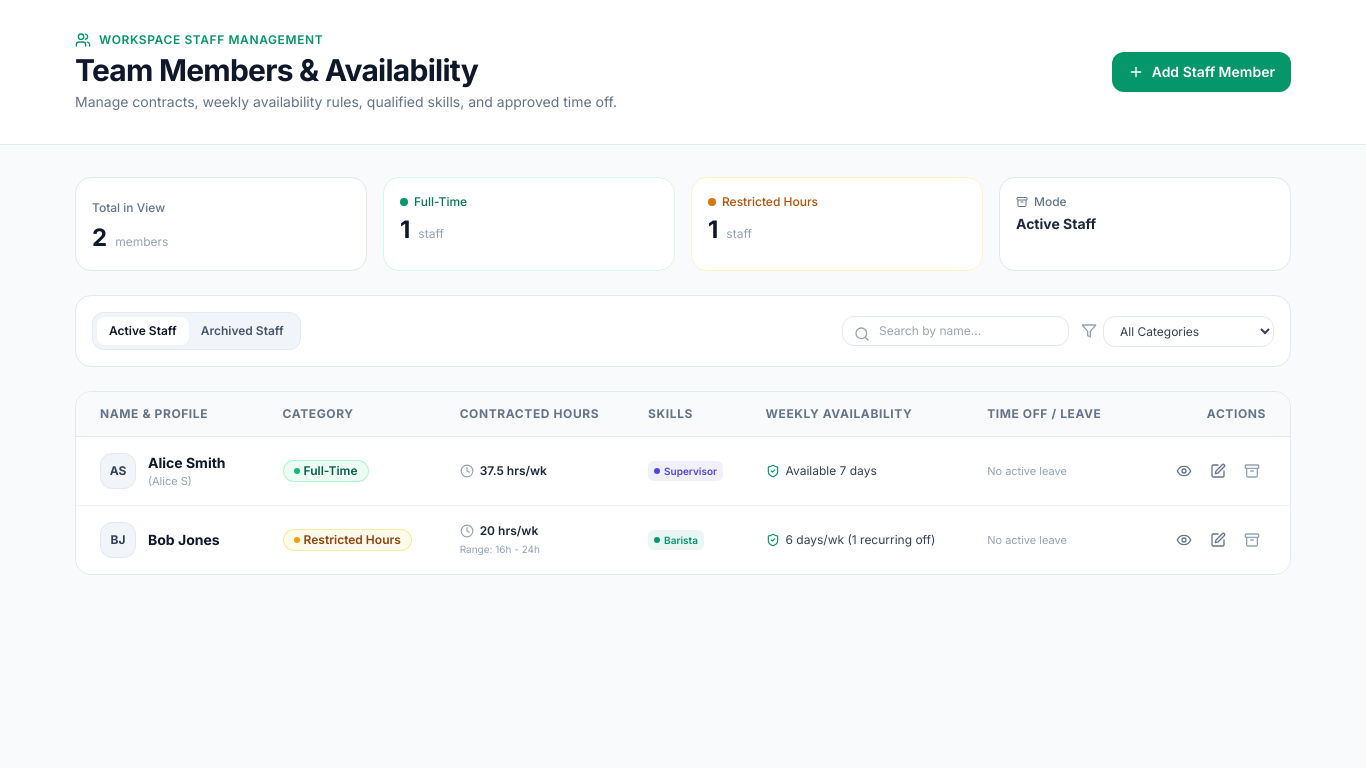
it: StaffPage Component › opens add staff modal when clicking add staff button
This screenshot has width=1366, height=768.
Expected: the button "Alice Smith" is shown, [148,453,226,473]
Click the button "Add Staff Member" at (1201, 72), box [1112,52,1291,92]
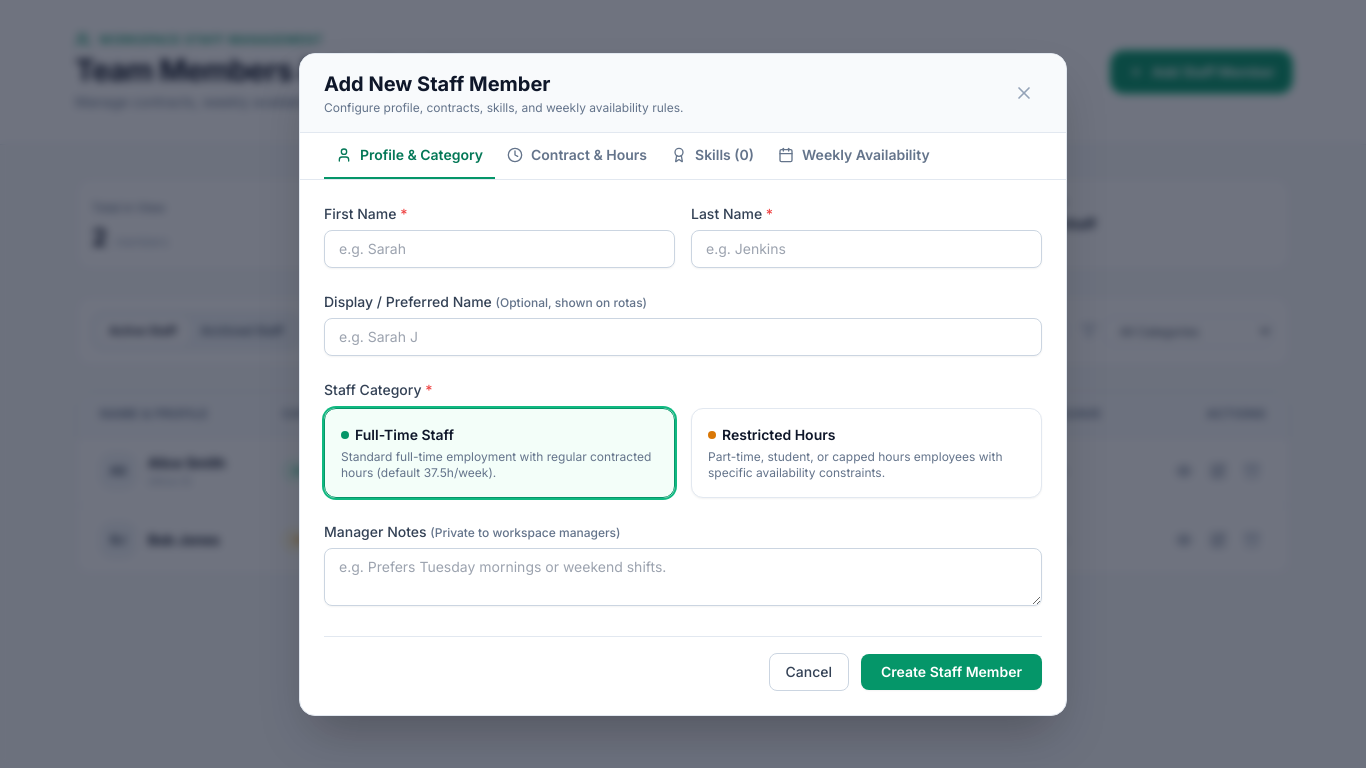
Expected: the dialog is shown
Expected: the heading "Add New Staff Member" is shown, [324,72,550,96]
